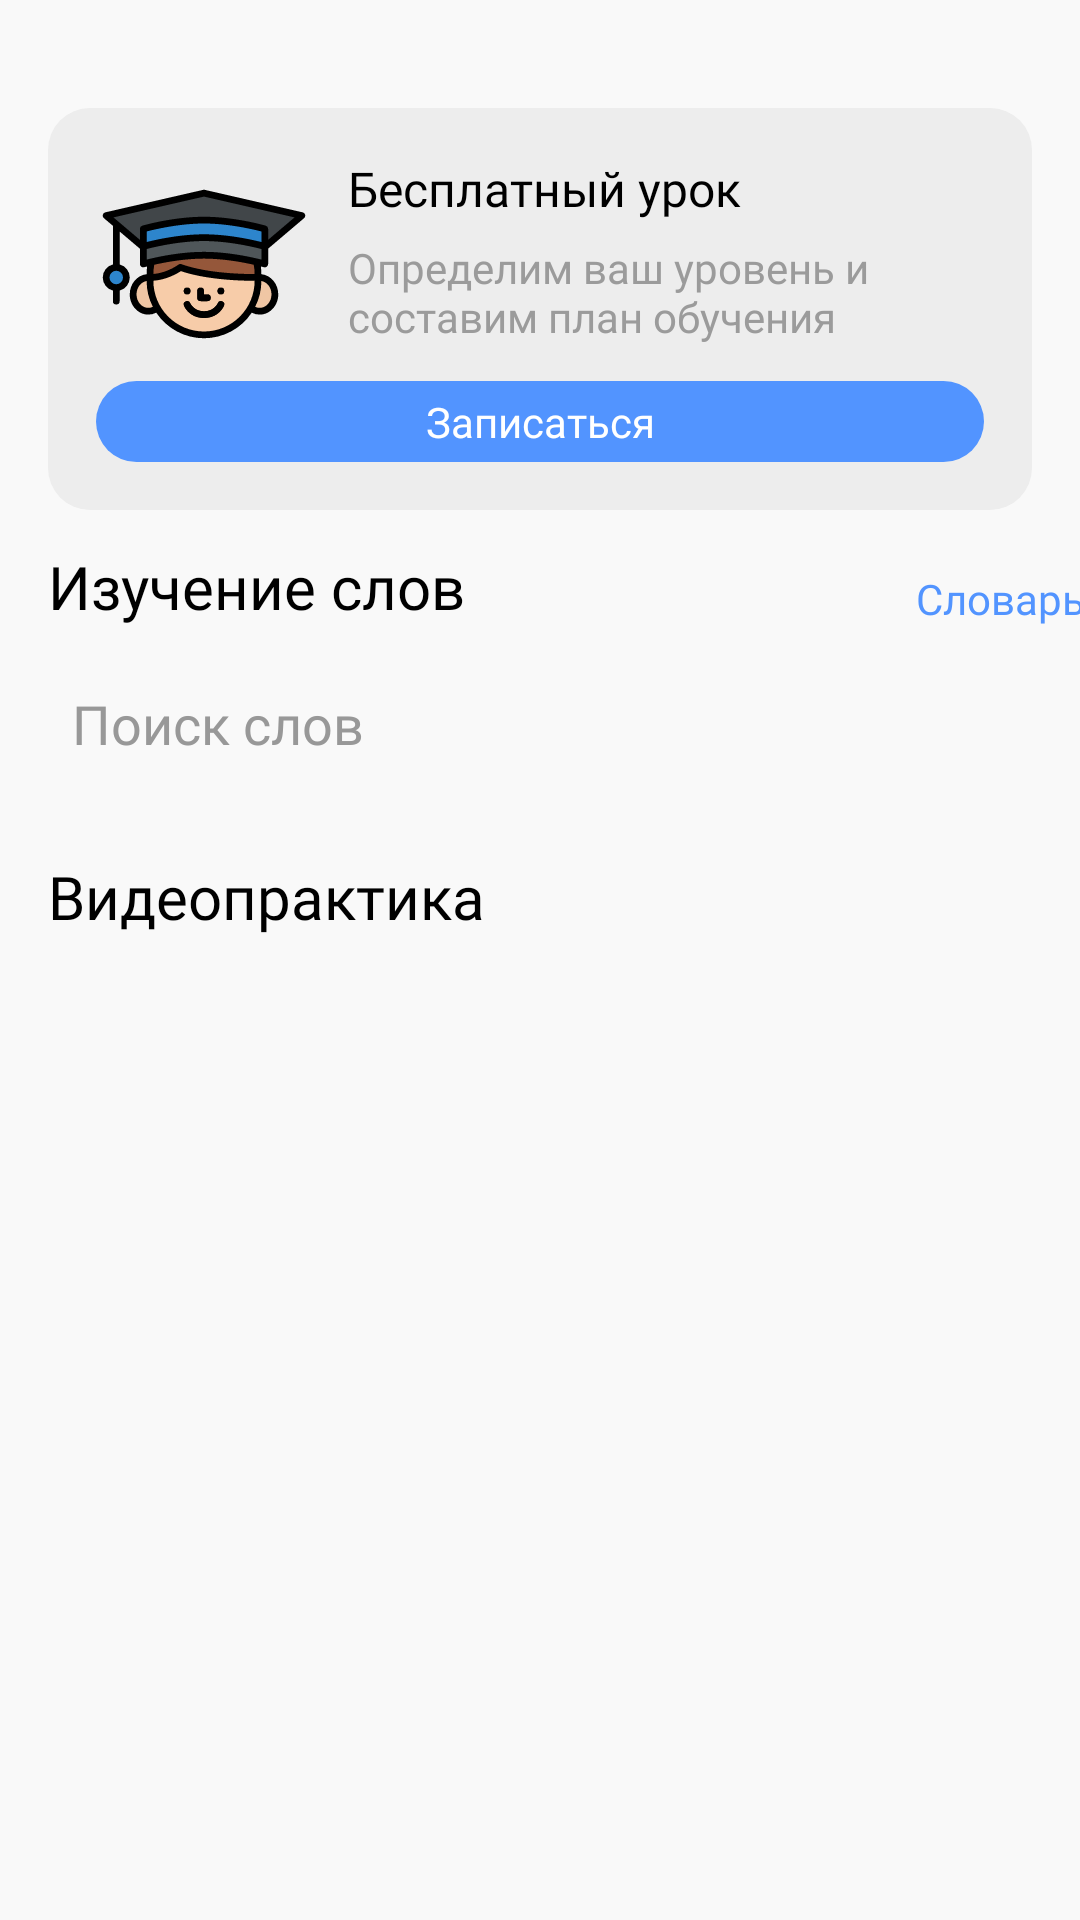

Point at icon controls on the screen. Image size 1080x1920, points as (x,y).
education: (204,264)
